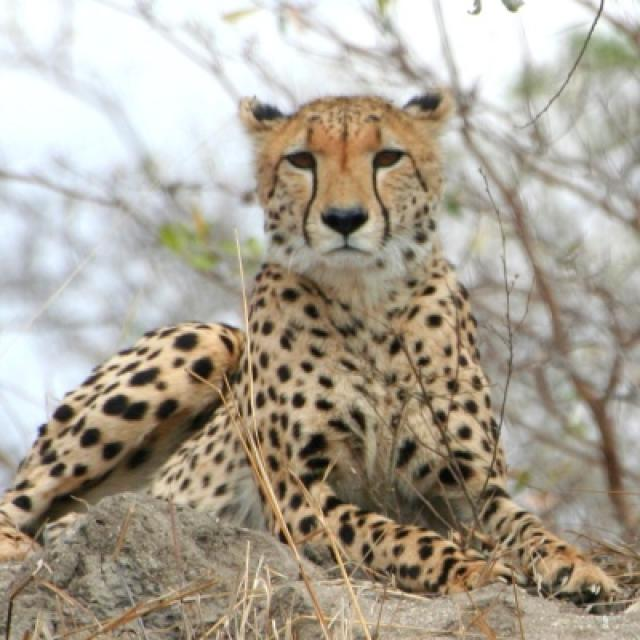Cheetah: (0, 91, 618, 603)
